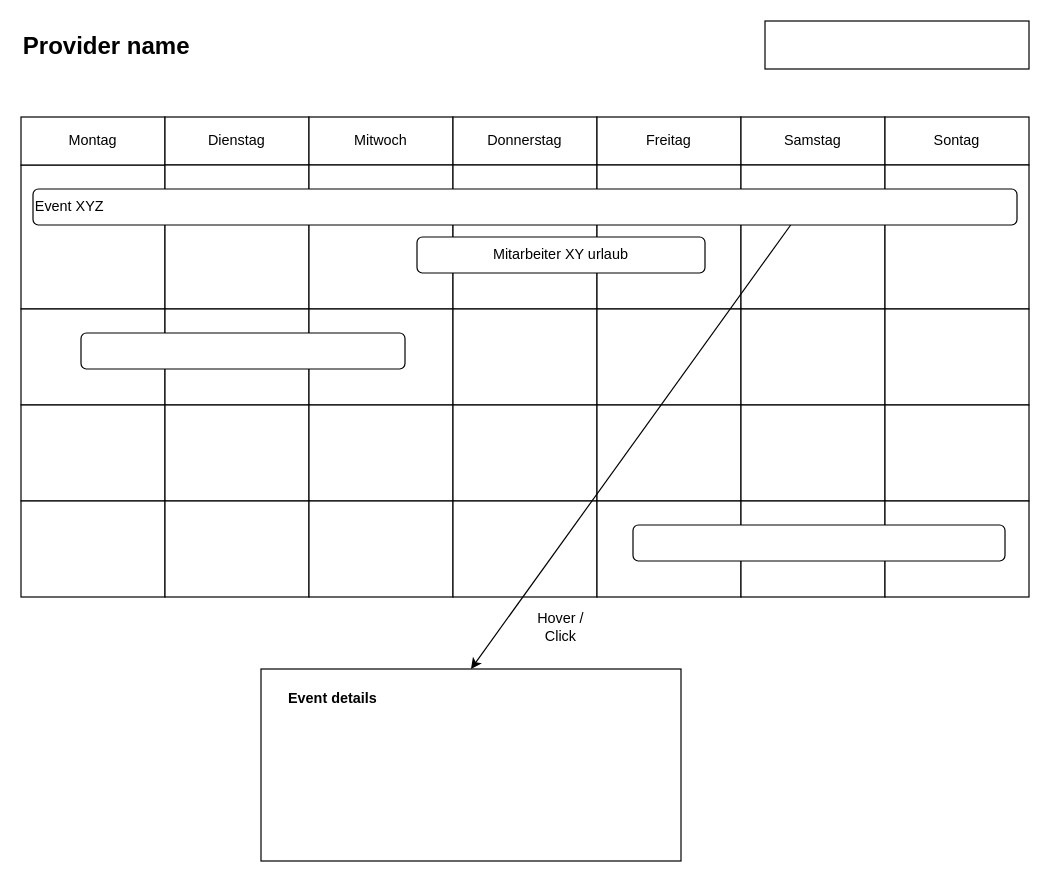
Some shapes in this 1050 by 882 pixel diagram are drawn without their labels. The shapes that lost their labels are listed below. From the top down, each one's box as (x1, y1, x2, y2) in pixels, then its label:
(764, 20, 1029, 69): Neue Anfragen: XX
(260, 668, 681, 861): Location, Zeitrahmen Eingeteilte Mitarbieter Eingeteilte Resourcen
